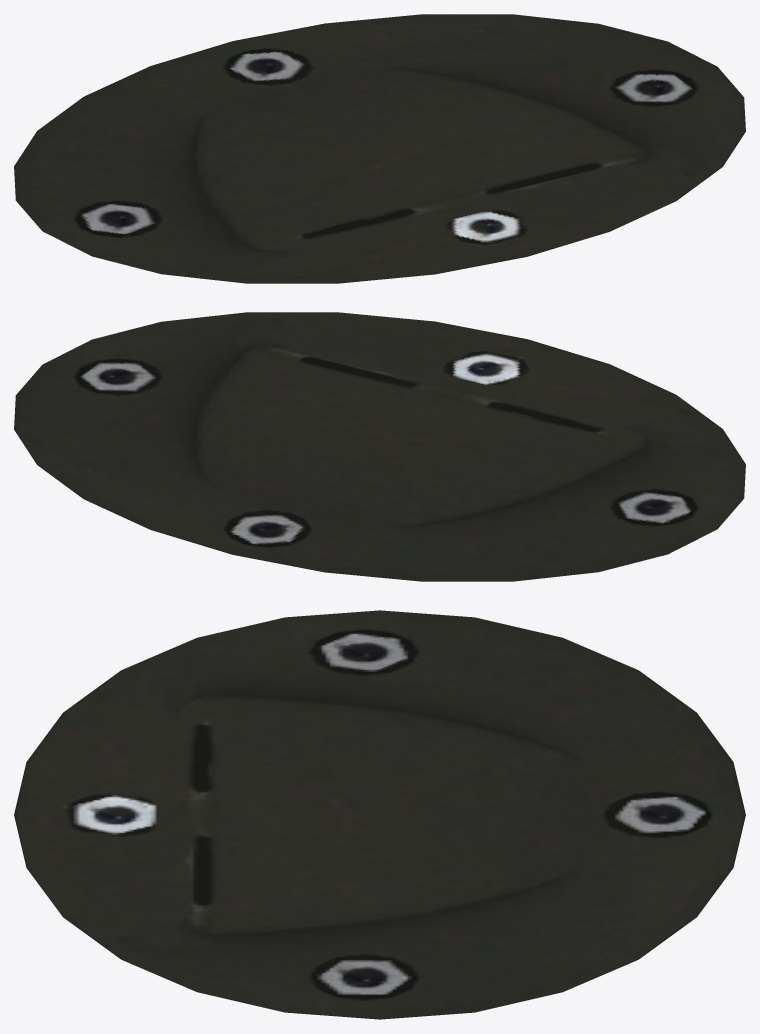
The model's file is unterflurfeuer_aus_lod.fbx.
The picture shows the model from 3 angles, top to bottom: view 1: azimuth 30°, elevation 25°; view 2: azimuth 150°, elevation 25°; view 3: azimuth 270°, elevation 25°; orthographic projection. The views are drawn at different scales.
Parts seen in each view (by area): view 1: Mesh; view 2: Mesh; view 3: Mesh.
Part boxes in pixels (x1=…): Mesh: x1=14, y1=14, x2=745, y2=283; Mesh: x1=14, y1=312, x2=745, y2=581; Mesh: x1=14, y1=610, x2=745, y2=1019.
Size of the model in its own units: 31.39 by 0 by 23.73.
